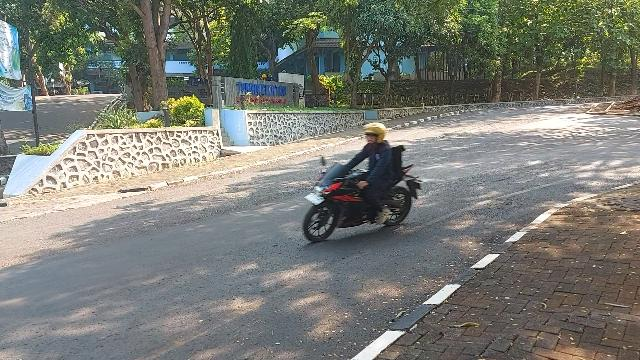motor: (304, 157, 423, 244), (364, 124, 386, 145)
